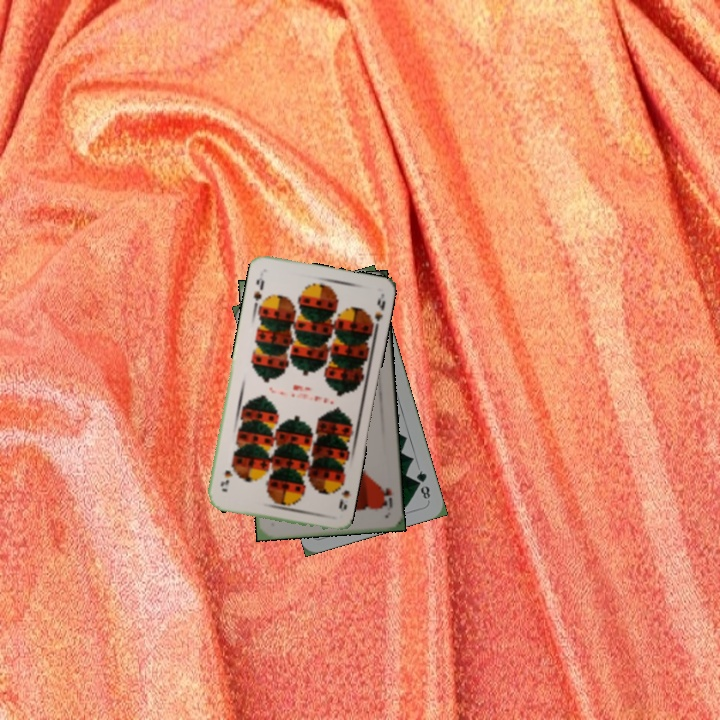G8: (412, 466, 433, 502)
HO: (379, 484, 395, 513)
S9: (333, 476, 353, 514), (249, 273, 267, 303)
